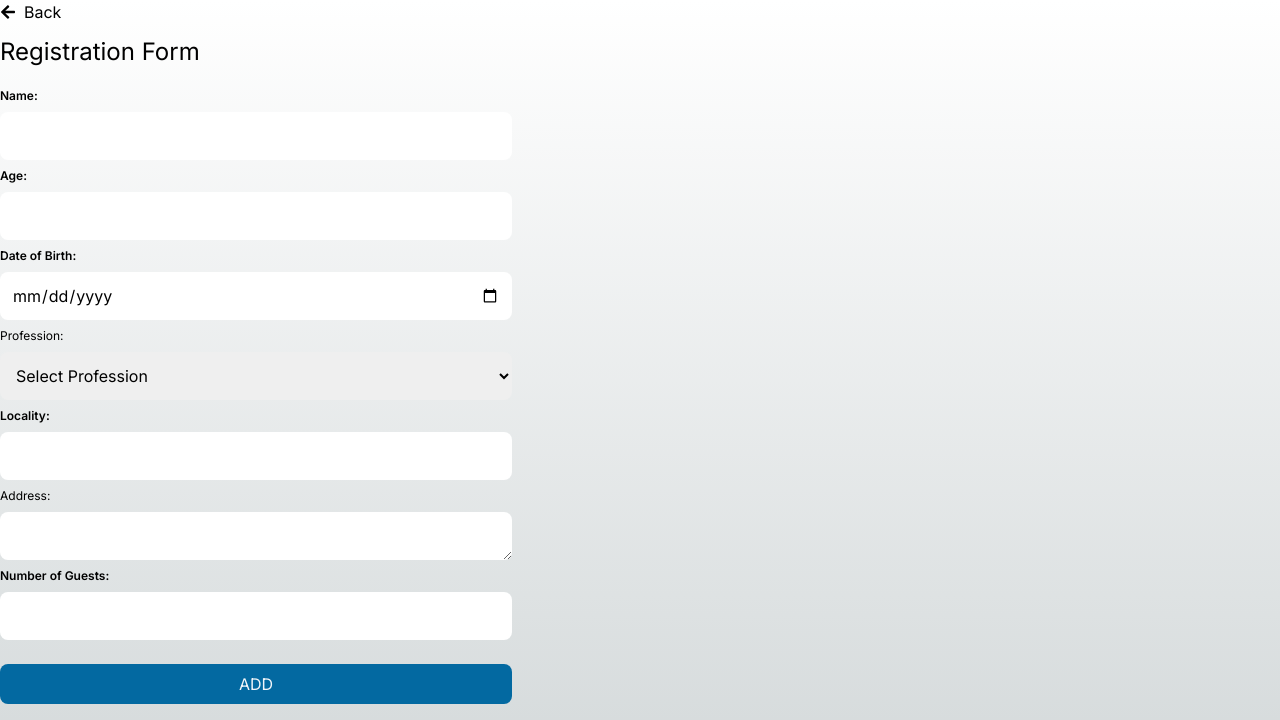
Test: RegistrationForm › handles form validation
Click the button "ADD": (256, 684) x1=0 y1=664 x2=512 y2=704
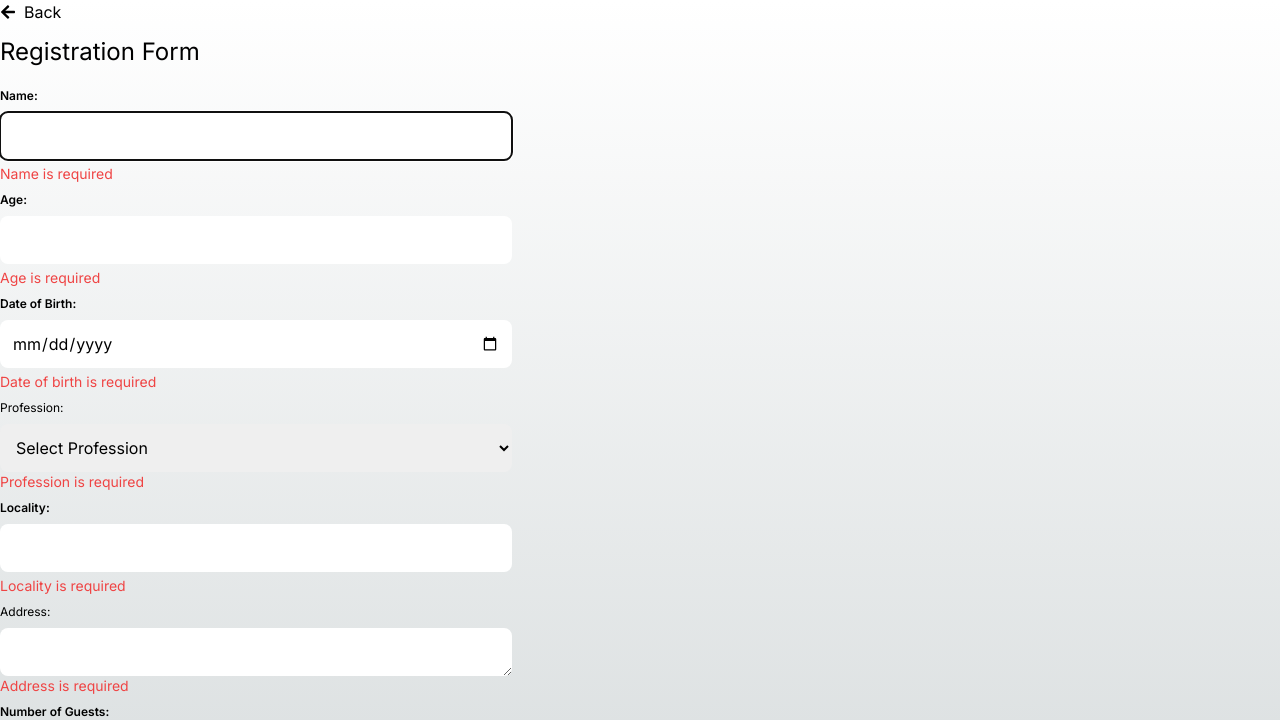
Expected: the text "Name is required" is shown, x1=0 y1=165 x2=113 y2=182
